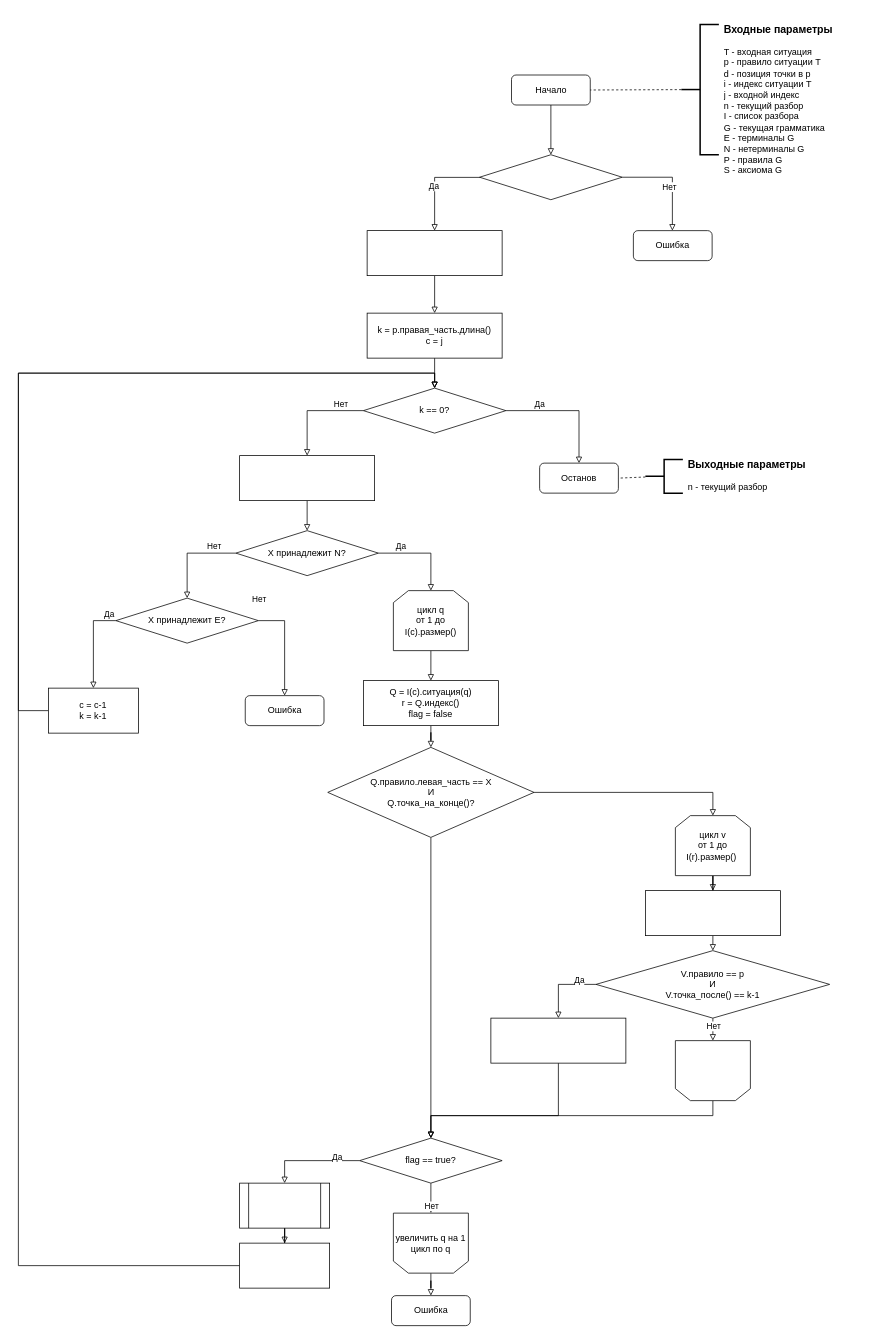
Image size: 876x1339. Some labels were removed from this diagram. Each missing label, with the centre of its shape:
flag = true: the point at 558,1040
h = G.номер_правила(р) n.добавить(h): the point at 434,253
n = R(Q, c, n) c = r k = k-1: the point at 284,1265
R(Q, c, n): the point at 284,1205
V = I(r).ситуация(v): the point at 712,913
р принадлежит Р?: the point at 550,177
увеличить v на 1 цикл по v: the point at 712,1070
Х = p.правая_часть(k): the point at 307,478
